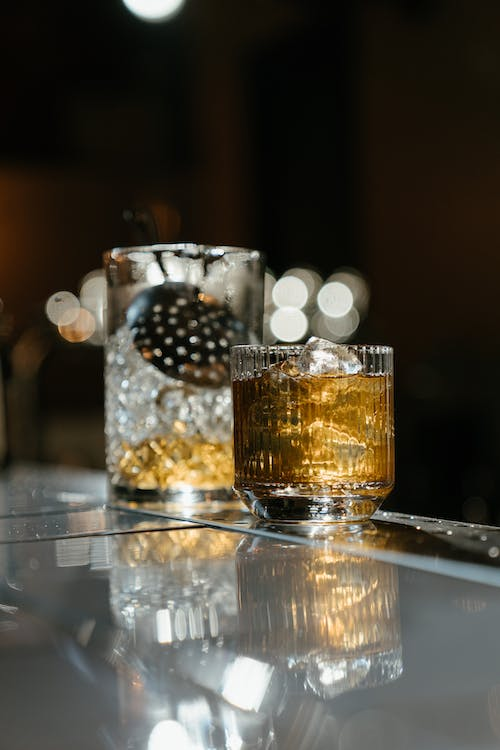alcohol: (100, 241, 265, 504), (227, 341, 398, 528)
